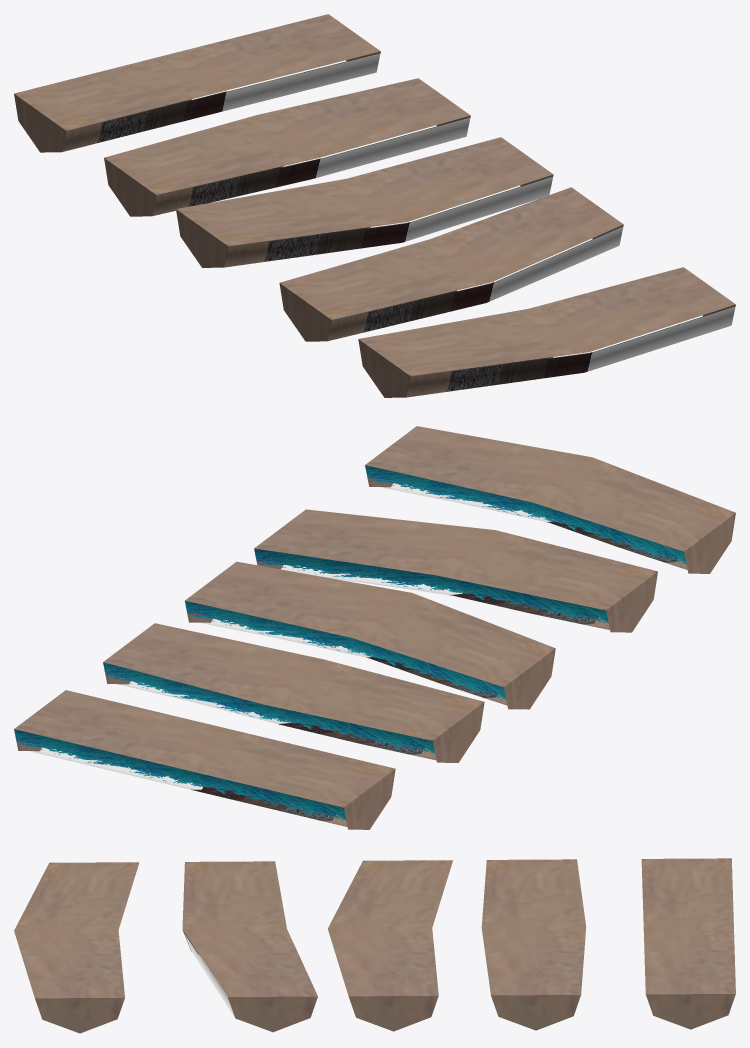
File: pm-love-death-steps.glb
3 views of the same model, one above another, from view 1: azimuth 30°, elevation 25°; view 2: azimuth 150°, elevation 25°; view 3: azimuth 270°, elevation 25° (orthographic). The views are drawn at different scales.
Parts seen in each view (by area): view 1: LoveDeath_Steps_Art; view 2: LoveDeath_Steps_Art; view 3: LoveDeath_Steps_Art.
Boxes of the visible parts, left/top/right/bottom form: LoveDeath_Steps_Art: left=14, top=14, right=735, bottom=397; LoveDeath_Steps_Art: left=14, top=426, right=735, bottom=829; LoveDeath_Steps_Art: left=14, top=858, right=735, bottom=1033.
Size of the model in its own units: 1.45 by 0.1765 by 3.16.
Materials: 1 (1 with a texture image).
